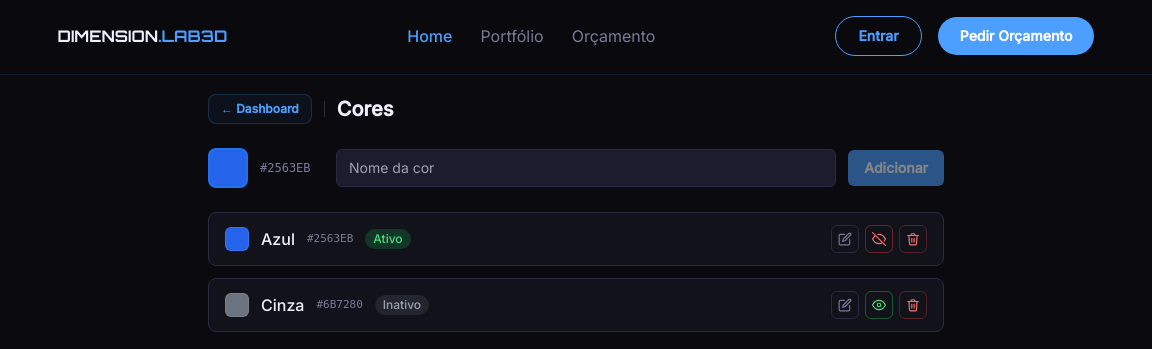
ColorsAdmin › removes a color
Check: the text "Azul" is shown, box 261,227 -> 295,251
What coordinates should you click on to do the following:
click the button named "excluir" in the row of "Azul"
I would click on:
 (913, 239)
Its box is 899,225 -> 927,253.
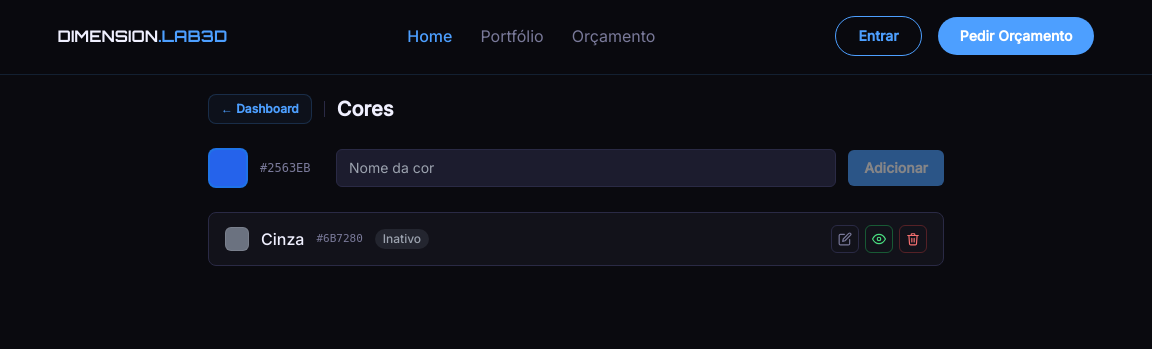
Check: the text "Azul" is gone
